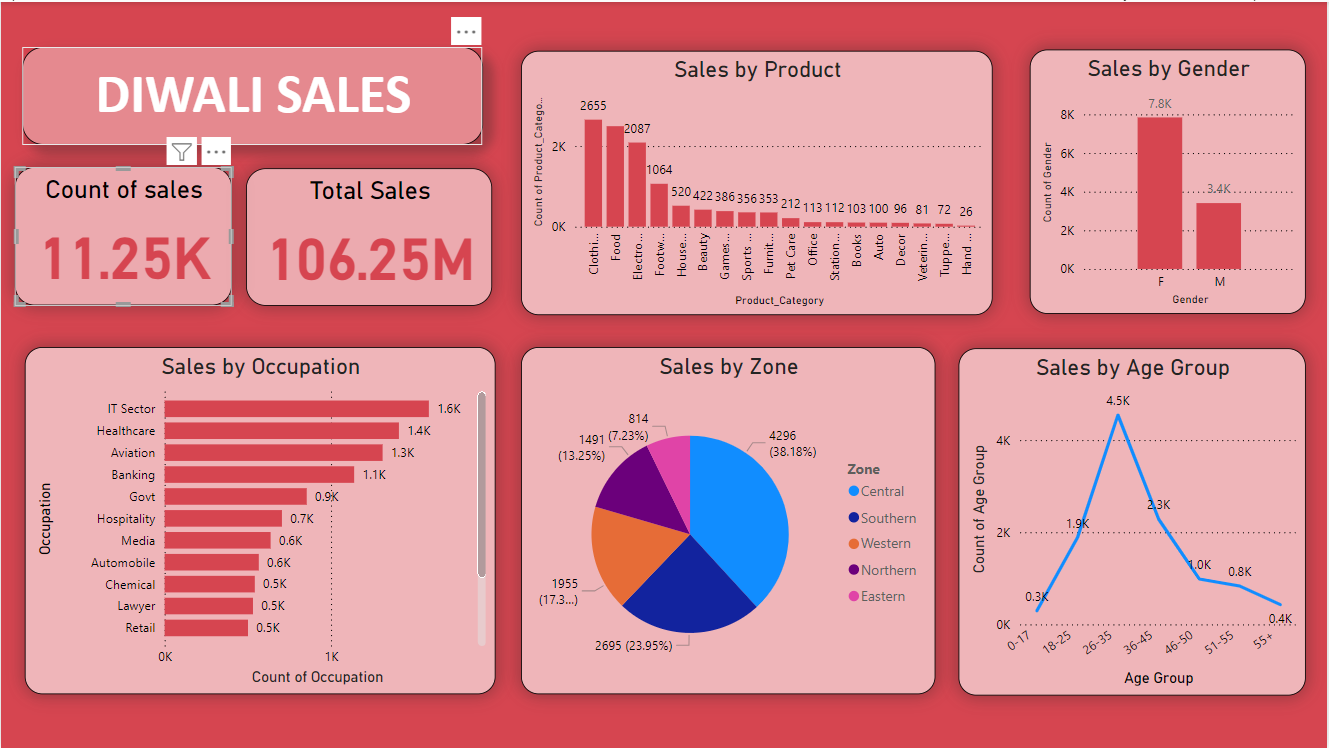

The dashboard page shown, as its layout file describes it:
{"tool":"powerbi","page":{"name":"Page 1","canvas":[1280,720],"ordinal":0},"visuals":[{"type":"textbox","box":[20.3,43.2,444.6,94.6],"z":0},{"type":"card","title":"Count of sales","fields":{"Values":["CountNonNull(Diwali Sales Data.User_ID)"]},"box":[13.3,159.1,209.5,133.8],"z":1000},{"type":"card","title":"Total Sales","fields":{"Values":["Sum(Diwali Sales Data.Amount)"]},"box":[236.2,160.4,237.8,132.4],"z":2000},{"type":"clusteredColumnChart","title":"Sales by Gender","fields":{"Category":["Diwali Sales Data.Gender"],"Y":["CountNonNull(Diwali Sales Data.Gender)"]},"box":[993.3,46.3,266.2,255.4],"z":3000},{"type":"pieChart","title":"Sales by Zone","fields":{"Category":["Diwali Sales Data.Zone"],"Y":["CountNonNull(Diwali Sales Data.Zone)"]},"box":[501.4,332.4,400,335.1],"z":4000},{"type":"clusteredBarChart","title":"Sales by Occupation","fields":{"Category":["Diwali Sales Data.Occupation"],"Y":["CountNonNull(Diwali Sales Data.Occupation)"]},"box":[23,332.4,454.1,335.1],"z":6000},{"type":"lineChart","title":"Sales by Age Group","fields":{"Category":["Diwali Sales Data.Age Group"],"Y":["CountNonNull(Diwali Sales Data.Age Group)"]},"box":[924.3,333.8,335.1,335.1],"z":7000},{"type":"columnChart","title":"Sales by Product","fields":{"Category":["Diwali Sales Data.Product_Category"],"Y":["CountNonNull(Diwali Sales Data.Product_Category)"]},"box":[501.4,47.3,455.4,255.4],"z":8000}]}

Visuals, with their boxes in screenshot pixels (x1, y1, x2, y2), scaled from the page's 1280x720 canvas onto the 1329x748 screenshot:
textbox: <bbox>21, 45, 483, 143</bbox>
"Count of sales" card: <bbox>14, 165, 231, 304</bbox>
"Total Sales" card: <bbox>245, 167, 492, 304</bbox>
"Sales by Gender" clusteredColumnChart: <bbox>1031, 48, 1308, 313</bbox>
"Sales by Zone" pieChart: <bbox>521, 345, 936, 693</bbox>
"Sales by Occupation" clusteredBarChart: <bbox>24, 345, 495, 693</bbox>
"Sales by Age Group" lineChart: <bbox>960, 347, 1308, 695</bbox>
"Sales by Product" columnChart: <bbox>521, 49, 993, 314</bbox>
